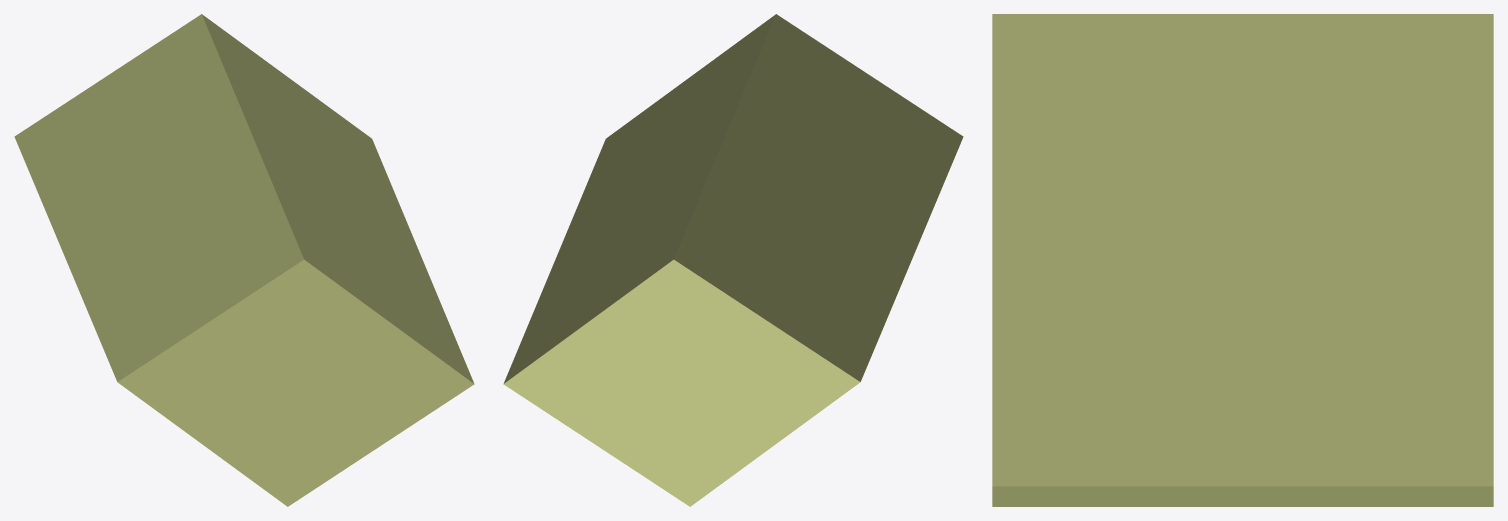
The picture shows the model from 3 angles, left to right: view 1: azimuth 30°, elevation 25°; view 2: azimuth 150°, elevation 25°; view 3: azimuth 270°, elevation 25°; orthographic projection. The views are drawn at different scales.
Visible parts, largest first — view 1: 0_1_1_3_2_2_0_3_2_2_3; view 2: 0_1_1_3_2_2_0_3_2_2_3; view 3: 0_1_1_3_2_2_0_3_2_2_3.
Boxes of the visible parts, bbox=[...] form: 0_1_1_3_2_2_0_3_2_2_3: bbox=[14, 14, 474, 506]; 0_1_1_3_2_2_0_3_2_2_3: bbox=[503, 14, 963, 506]; 0_1_1_3_2_2_0_3_2_2_3: bbox=[992, 14, 1493, 506].
Bounding box in the file's own units: 8.83 × 10.13 × 9.
